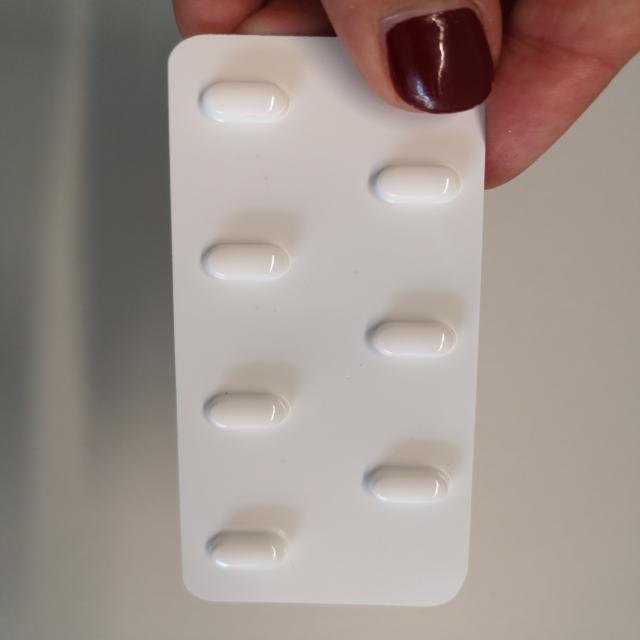Pill: (190, 381, 306, 438), (348, 452, 454, 514), (359, 307, 469, 366), (194, 520, 303, 578), (357, 157, 475, 208), (189, 76, 297, 130), (196, 232, 294, 287)
